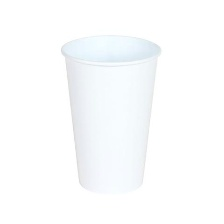paper_cup: (55, 27, 165, 199)
